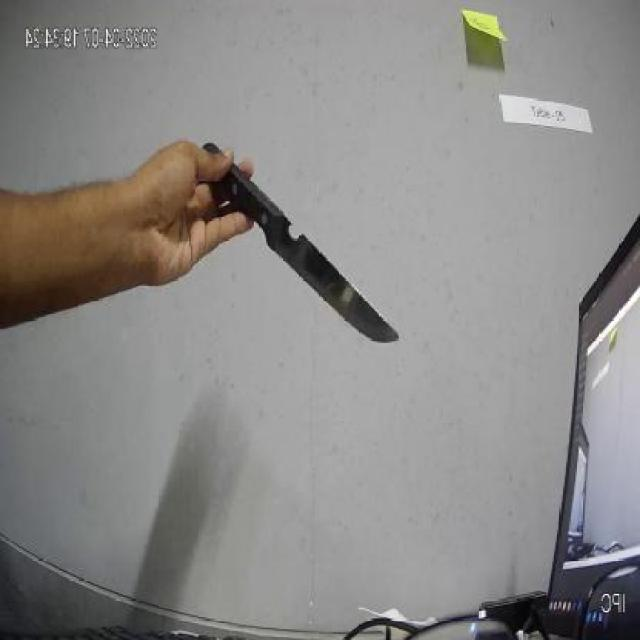knife: (194, 140, 401, 349)
